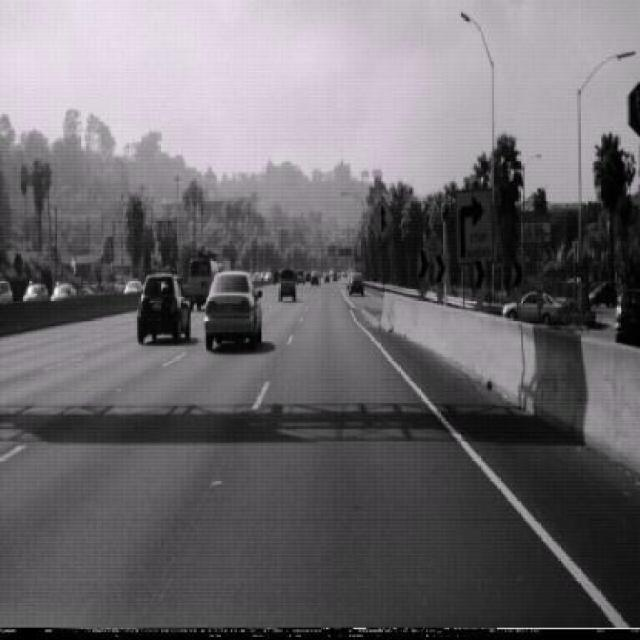merge: (369, 194, 394, 241)
